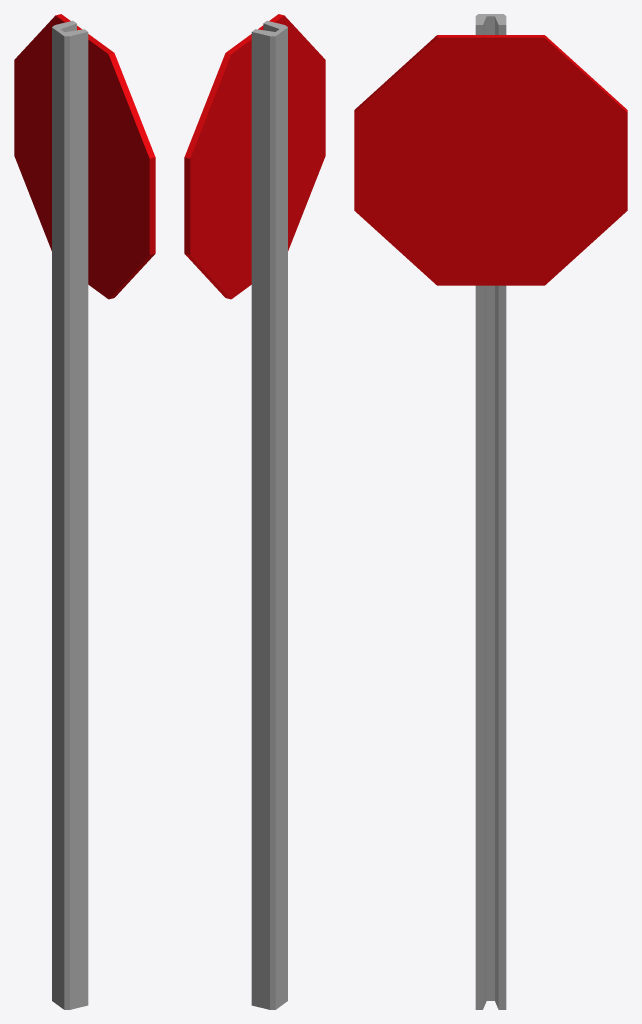
The model's file is StopSign.fbx.
3 views of the same model, side by side, from view 1: azimuth 30°, elevation 25°; view 2: azimuth 150°, elevation 25°; view 3: azimuth 270°, elevation 25° (orthographic).
Visible parts, largest first — view 1: Cube; view 2: Cube; view 3: Cube.
Boxes of the visible parts, bbox=[...] form: Cube: bbox=[14, 14, 155, 1009]; Cube: bbox=[184, 14, 325, 1009]; Cube: bbox=[354, 14, 627, 1009].
Size of the model in its own units: 25.5 by 794 by 200.
